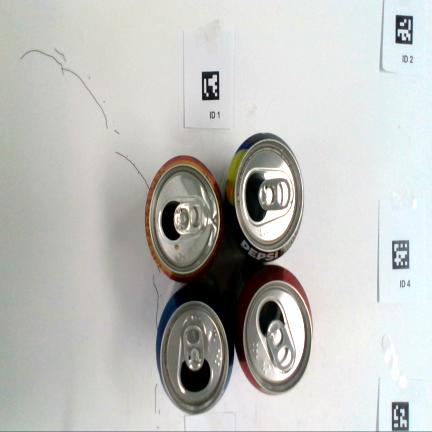can_coke_decaf: (145, 155, 224, 281)
can_coke_zero: (234, 265, 313, 395)
can_pepsi: (156, 282, 234, 414)
can_pepsi_zero: (225, 133, 304, 262)
